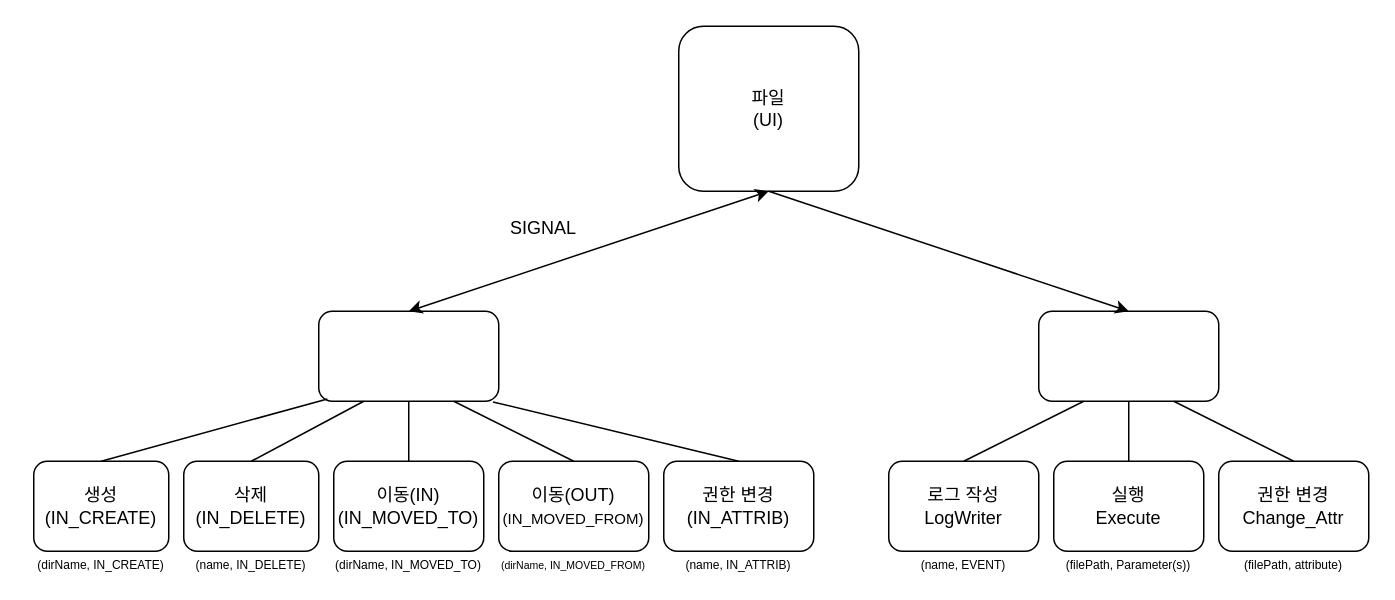
Some shapes in this 1395 by 600 pixel diagram are drawn without their labels. Here are the shapes that lost their labels. From the top down, the centre of each, then its label:
point 408,355: 감지 FileEventListener
point 1128,355: 실행
